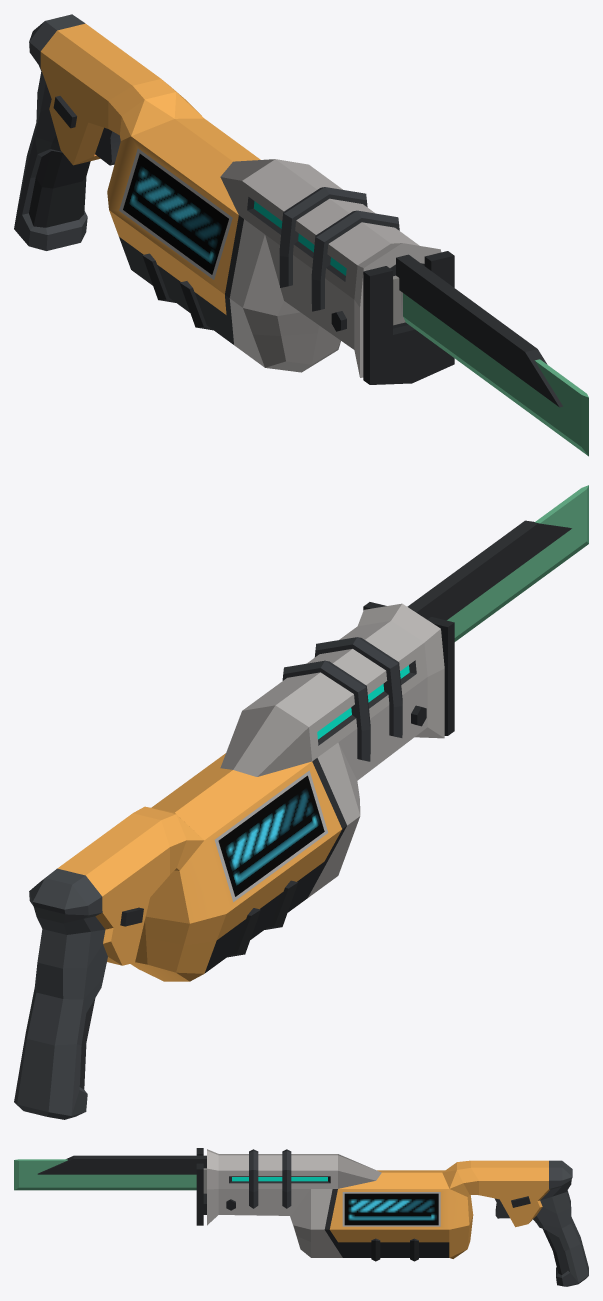
The model's file is SM_Prop_Tool_Neon_Saw_01.fbx.
The picture shows the model from 3 angles, top to bottom: view 1: azimuth 30°, elevation 25°; view 2: azimuth 150°, elevation 25°; view 3: azimuth 270°, elevation 25°; orthographic projection. The views are drawn at different scales.
Visible parts, largest first — view 1: SM_Prop_Tool_Neon_Saw_01, SM_Prop_Tool_Neon_Saw_Blade_01, SM_Prop_Tool_Neon_Saw_Trigger_01; view 2: SM_Prop_Tool_Neon_Saw_01, SM_Prop_Tool_Neon_Saw_Blade_01; view 3: SM_Prop_Tool_Neon_Saw_01, SM_Prop_Tool_Neon_Saw_Blade_01.
Boxes of the visible parts, x1,y1,x2,y2 form: SM_Prop_Tool_Neon_Saw_01: (14, 14, 454, 384); SM_Prop_Tool_Neon_Saw_Blade_01: (396, 254, 588, 456); SM_Prop_Tool_Neon_Saw_Trigger_01: (95, 127, 120, 165); SM_Prop_Tool_Neon_Saw_01: (14, 602, 454, 1119); SM_Prop_Tool_Neon_Saw_Blade_01: (407, 485, 588, 641); SM_Prop_Tool_Neon_Saw_01: (196, 1148, 588, 1286); SM_Prop_Tool_Neon_Saw_Blade_01: (14, 1155, 206, 1190).
Bounding box in the file's own units: 11.95 × 24.54 × 96.94.
